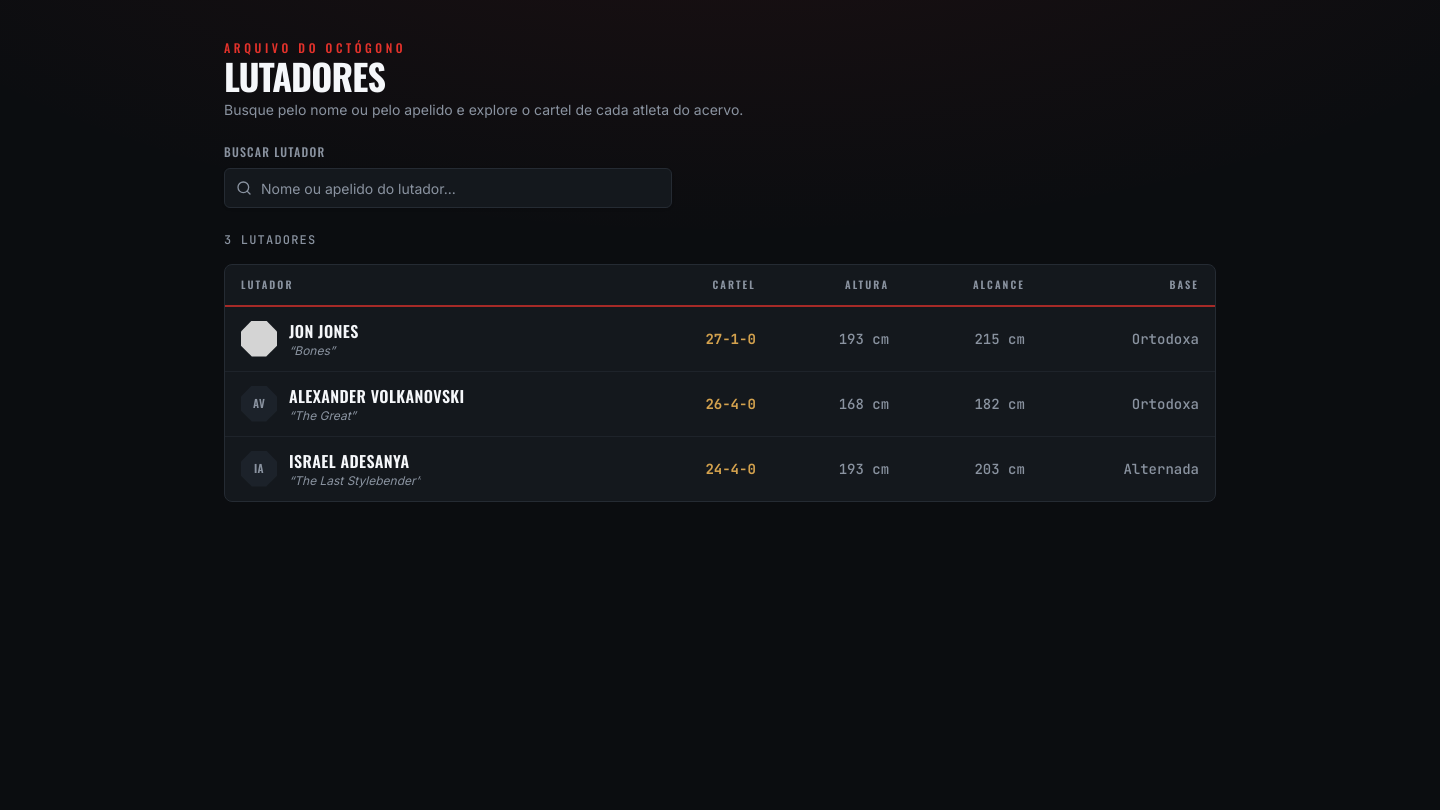
FighterPage — navegação e estados da rota › navega da lista para o detalhe ao clicar num lutador
Click the link "Jon Jones".
click(324, 331)  # box [289,319,359,343]
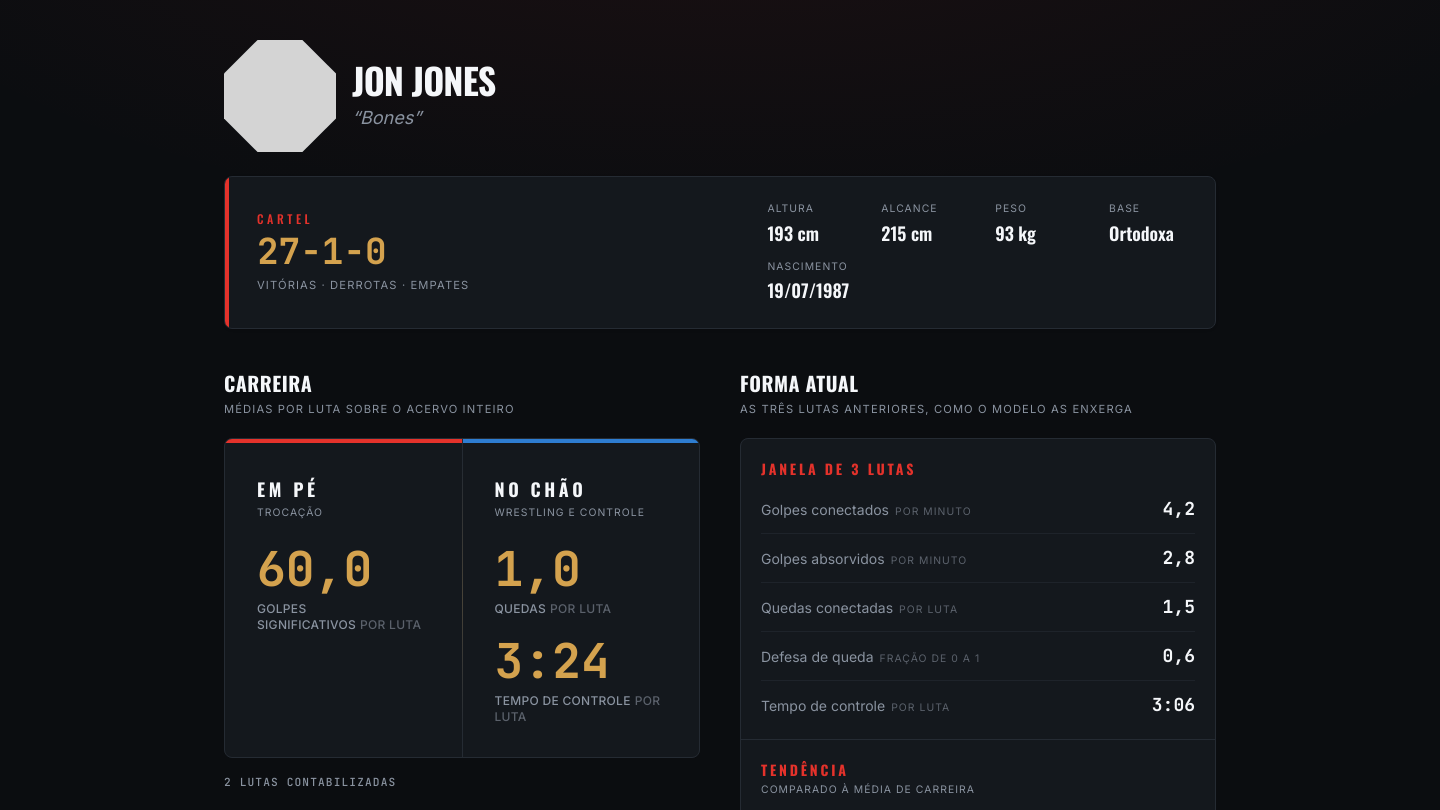
Check: the heading "Jon Jones" is shown, box [352,60,495,100]
